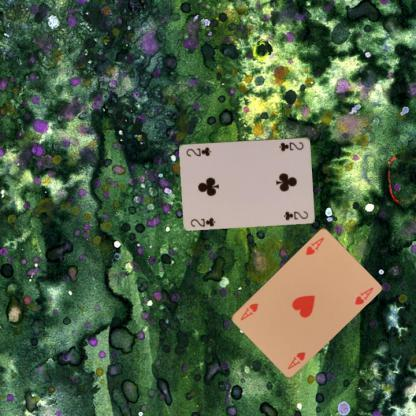2c: (188, 214, 217, 229), (276, 140, 306, 152)
Ah: (285, 349, 307, 371), (304, 234, 326, 256)
